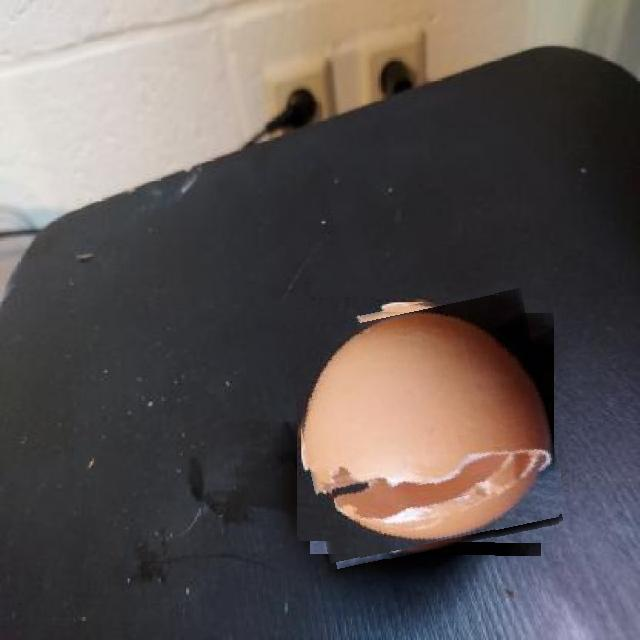biodegradable: (292, 292, 559, 559)
